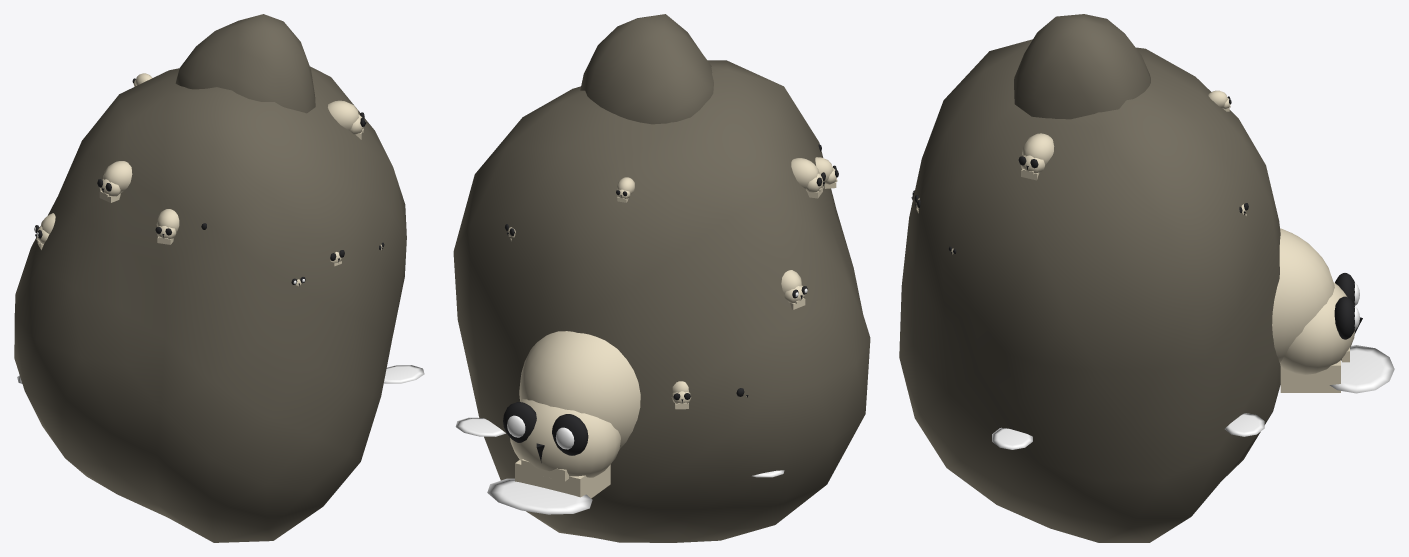
File: SKULL_MOUNTAIN.glb
3 views of the same model, side by side, from view 1: azimuth 30°, elevation 25°; view 2: azimuth 150°, elevation 25°; view 3: azimuth 270°, elevation 25° (orthographic). The views are drawn at different scales.
Parts seen in each view (by area): view 1: stone_0, bone_1, slime_3, tread_2; view 2: stone_0, bone_1, slime_3, tread_2, lamps_4; view 3: stone_0, bone_1, slime_3, tread_2.
Boxes of the visible parts, x1,y1,x2,y2 form: stone_0: (14,14,406,542); bone_1: (36,73,382,286); slime_3: (17,365,424,383); tread_2: (35,78,384,286); stone_0: (453,14,870,542); bone_1: (508,157,837,498); slime_3: (455,417,784,514); tread_2: (503,144,838,462); lamps_4: (507,288,807,449); stone_0: (899,14,1280,542); bone_1: (916,90,1355,392); slime_3: (992,345,1394,449); tread_2: (912,96,1362,339).
Size of the model in its own units: 17.61 by 23.62 by 20.74.
